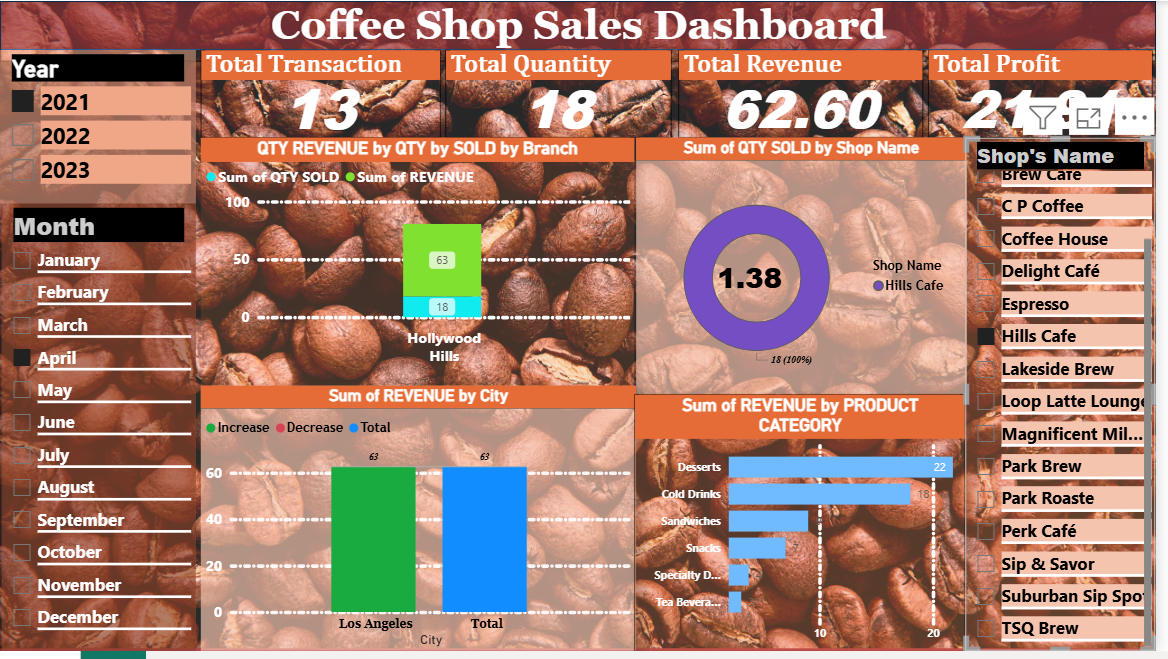

Layout of this report page (visuals, bound fields, positions):
{"tool":"powerbi","page":{"name":"Page 1","canvas":[1280,720],"ordinal":0},"visuals":[{"type":"shape","box":[0,0,1279.6,54.2],"z":0},{"type":"textbox","title":"Coffee Shop Sales Dashboard","box":[0,0,1279.6,67.2],"z":1000},{"type":"shape","box":[0,67.2,216.7,651.9],"z":2000},{"type":"card","title":"Total Transaction","fields":{"Values":["select","CountNonNull(Sheet1.TRANSACTION ID)"]},"box":[222.3,54.2,265.3,97.1],"z":3000},{"type":"card","title":"Total Quantity","fields":{"Values":["select","Sum(Sheet1.QTY SOLD)"]},"box":[493.2,54.2,250.3,97.1],"z":4000},{"type":"card","title":"Total Revenue","fields":{"Values":["select","Sum(Sheet1.REVENUE)"]},"box":[750.9,54.2,270.9,97.1],"z":5000},{"type":"card","title":"Total Profit","fields":{"Values":["select","Sum(Sheet1.PROFIT MARGIN)"]},"box":[1027.4,54.2,248.4,97.1],"z":6000},{"type":"slicer","fields":{"Values":["Sheet1.DATE.Variation.Date Hierarchy.Year"]},"box":[0,54.2,216.7,170],"z":7000},{"type":"slicer","fields":{"Values":["Sheet1.DATE.Variation.Date Hierarchy.Month"]},"box":[1.9,224.2,214.8,495],"z":8000},{"type":"slicer","fields":{"Values":["Sheet1.Shop Name"]},"box":[1068.5,151.3,211.1,567.9],"z":9000},{"type":"lineStackedColumnComboChart","title":"QTY REVENUE by QTY by SOLD by Branch","fields":{"Category":["Sheet1.Branch"],"Y":["Sum(Sheet1.QTY SOLD)","Sum(Sheet1.REVENUE)"]},"box":[222.3,151.3,480.1,274.6],"z":10000},{"type":"donutChart","fields":{"Y":["Sum(Sheet1.QTY SOLD)"],"Category":["Sheet1.Shop Name"]},"box":[704.2,151.3,366.1,283.9],"z":11000},{"type":"card","title":"Total Quantity","fields":{"Values":["select","Avg(Sheet1.QTY SOLD)"]},"box":[773.5,238.9,113.5,136],"z":12000},{"type":"waterfallChart","fields":{"Y":["Sum(Sheet1.REVENUE)"],"Category":["Sheet1.City"]},"box":[222.3,425.9,481.9,293.3],"z":13000},{"type":"clusteredBarChart","fields":{"Category":["Sheet1.PRODUCT CATEGORY"],"Y":["Sum(Sheet1.REVENUE)"]},"box":[702.4,435.2,366.1,285],"z":14000}]}

Visuals, with their boxes on the page's 1280x720 design canvas (x1, y1, x2, y2). These are canvas units, not pixel positions in the 1168x659 screenshot, which may show the page scaled, cropped or inside an application window:
shape: x1=0, y1=0, x2=1280, y2=54
"Coffee Shop Sales Dashboard" textbox: x1=0, y1=0, x2=1280, y2=67
shape: x1=0, y1=67, x2=217, y2=719
"Total Transaction" card: x1=222, y1=54, x2=488, y2=151
"Total Quantity" card: x1=493, y1=54, x2=744, y2=151
"Total Revenue" card: x1=751, y1=54, x2=1022, y2=151
"Total Profit" card: x1=1027, y1=54, x2=1276, y2=151
slicer - Sheet1.DATE.Variation.Date Hierarchy.Year: x1=0, y1=54, x2=217, y2=224
slicer - Sheet1.DATE.Variation.Date Hierarchy.Month: x1=2, y1=224, x2=217, y2=719
slicer - Sheet1.Shop Name: x1=1068, y1=151, x2=1280, y2=719
"QTY REVENUE by QTY by SOLD by Branch" lineStackedColumnComboChart: x1=222, y1=151, x2=702, y2=426
donutChart - Sum(Sheet1.QTY SOLD) x Sheet1.Shop Name: x1=704, y1=151, x2=1070, y2=435
"Total Quantity" card: x1=774, y1=239, x2=887, y2=375
waterfallChart - Sum(Sheet1.REVENUE) x Sheet1.City: x1=222, y1=426, x2=704, y2=719
clusteredBarChart - Sheet1.PRODUCT CATEGORY x Sum(Sheet1.REVENUE): x1=702, y1=435, x2=1068, y2=720
